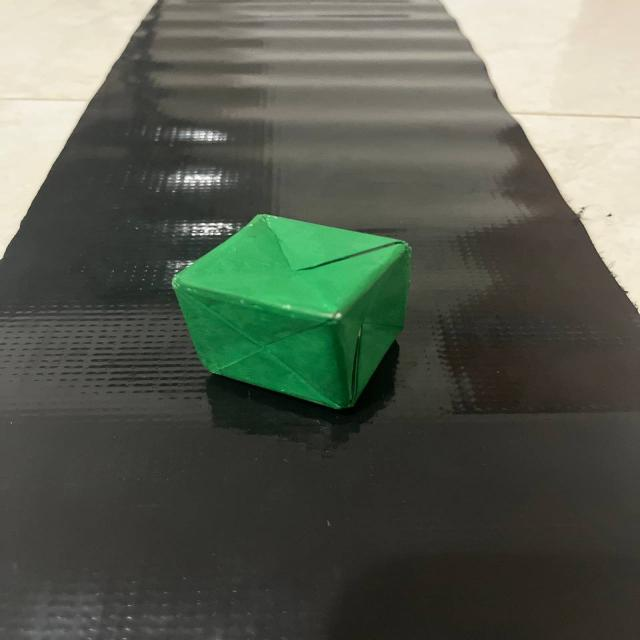Verde: (147, 203, 441, 428)
